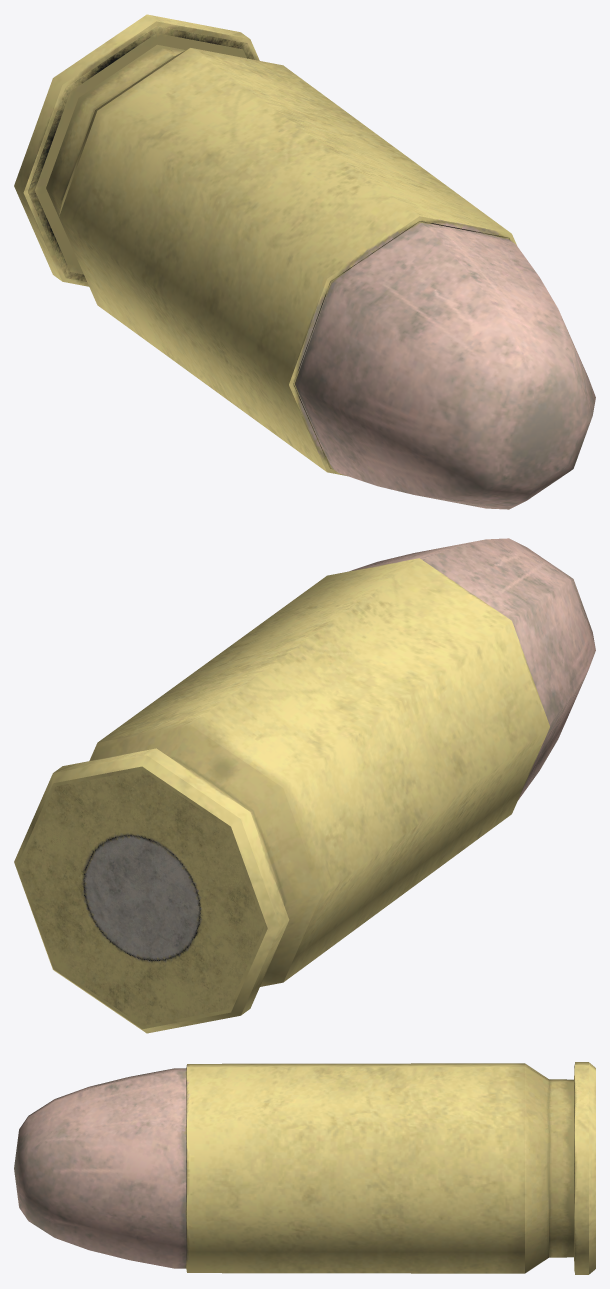
The model's file is 45_acp_round_object (merge).fbx.
3 renders of one model, top to bottom at view 1: azimuth 30°, elevation 25°; view 2: azimuth 150°, elevation 25°; view 3: azimuth 270°, elevation 25°, orthographic. The views are drawn at different scales.
Visible parts, largest first — view 1: 45_acp_loaded_low, 45_acp_case_low; view 2: 45_acp_loaded_low, 45_acp_case_low; view 3: 45_acp_loaded_low, 45_acp_case_low.
Boxes of the visible parts, x1,y1,x2,y2 form: 45_acp_loaded_low: (14, 14, 595, 509); 45_acp_case_low: (28, 26, 509, 469); 45_acp_loaded_low: (14, 538, 595, 1033); 45_acp_case_low: (20, 770, 263, 1025); 45_acp_loaded_low: (14, 1062, 595, 1274); 45_acp_case_low: (186, 1066, 574, 1270).
Bounding box in the file's own units: 0.0126 × 0.0126 × 0.0324.
